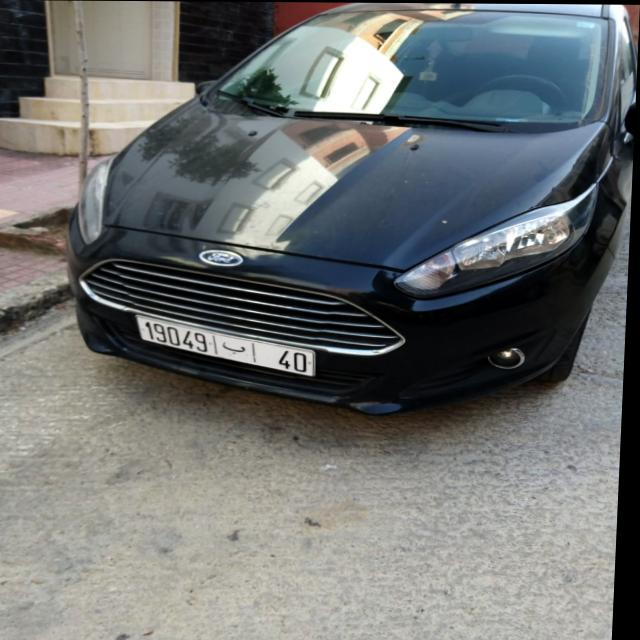License-Plate: (139, 315, 319, 376)
